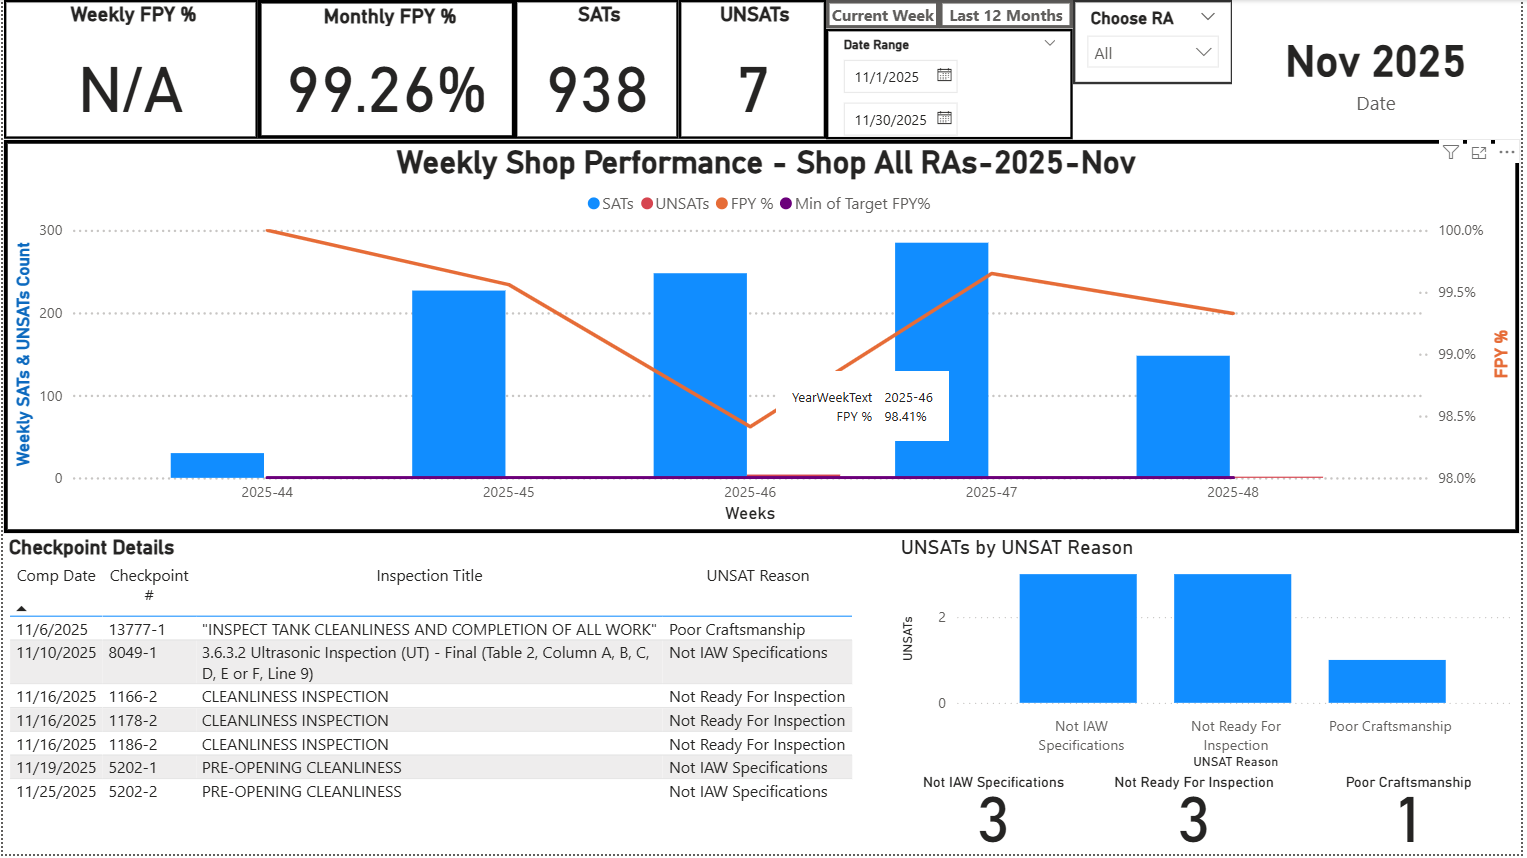

Layout of this report page (visuals, bound fields, positions):
{"tool":"powerbi","page":{"name":"FPY %","canvas":[1280,720],"ordinal":0},"visuals":[{"type":"lineClusteredColumnComboChart","fields":{"Y":["FPY_Graph.SATs","FPY_Graph.UNSATs"],"Y2":["FPY_Graph.FPY %","Min(FPY_Graph.Target FPY%)"],"Category":["Calendar.YearWeekText"]},"box":[0,106.2,1279,344],"z":0},{"type":"card","title":"Weekly FPY %","fields":{"Values":["FPY_Graph.Weekly FPY % (Card)"]},"box":[0.9,0,213.9,106.1],"z":1000},{"type":"card","title":"Monthly FPY %","fields":{"Values":["FPY_Graph.Monthly / Period FPY% (Smart)"]},"box":[214.8,0,216.5,106.1],"z":2000},{"type":"card","title":"SATs","fields":{"Values":["FPY_Graph.SATs (0)"]},"box":[431.3,0,138.9,106.1],"z":3000},{"type":"card","title":"UNSATs","fields":{"Values":["FPY_Graph.UNSATs(0)"]},"box":[570.1,0,123.3,106.1],"z":4000},{"type":"slicer","fields":{"Values":["FPY_Graph.RA"]},"box":[902.2,0,134.6,106.1],"z":5000},{"type":"slicer","fields":{"Values":["Calendar.Date"]},"box":[693.5,24.2,208.7,81.9],"z":6000},{"type":"actionButton","box":[693.5,0,95.7,24.2],"z":7000},{"type":"actionButton","box":[789.2,0,113,24.2],"z":8000},{"type":"tableEx","title":"Checkpoint Details","fields":{"Values":["FPY_Graph.Completion Date","FPY_Graph.Checkpoint #","FPY_Graph.Inspection Title","FPY_Graph.UNSAT Reason"]},"box":[0,451,752,268],"z":9000},{"type":"clusteredColumnChart","fields":{"Category":["FPY_Graph.UNSAT Reason (Clean)"],"Y":["FPY_Graph.UNSATs"]},"box":[752,451.1,526.9,201.5],"z":10000},{"type":"card","title":"Not IAW Specifications","fields":{"Values":["FPY_Graph.UNSATs - Not IAW Specifications"]},"box":[752,652.6,166.1,67.4],"z":11000},{"type":"card","title":"Not Ready For Inspection","fields":{"Values":["FPY_Graph.UNSATs - Not Ready For Inspection"]},"box":[918.1,652.6,172,67.4],"z":12000},{"type":"card","title":"Poor Craftsmanship","fields":{"Values":["FPY_Graph.UNSATs - Poor Craftsmanship"]},"box":[1090.1,652.6,189.7,67.4],"z":13000},{"type":"card","fields":{"Values":["FPY_Graph.Date Context (Simple)"]},"box":[1036.2,0,242.8,106.2],"z":14000}]}

Visuals, with their boxes in screenshot pixels (x1, y1, x2, y2), scaled from the page's 1280x720 canvas onto the 1527x858 screenshot:
lineClusteredColumnComboChart - FPY_Graph.SATs x FPY_Graph.UNSATs: Rect(0, 127, 1526, 536)
"Weekly FPY %" card: Rect(1, 0, 256, 126)
"Monthly FPY %" card: Rect(256, 0, 515, 126)
"SATs" card: Rect(515, 0, 680, 126)
"UNSATs" card: Rect(680, 0, 827, 126)
slicer - FPY_Graph.RA: Rect(1076, 0, 1237, 126)
slicer - Calendar.Date: Rect(827, 29, 1076, 126)
actionButton: Rect(827, 0, 941, 29)
actionButton: Rect(941, 0, 1076, 29)
"Checkpoint Details" tableEx: Rect(0, 537, 897, 857)
clusteredColumnChart - FPY_Graph.UNSAT Reason (Clean) x FPY_Graph.UNSATs: Rect(897, 538, 1526, 778)
"Not IAW Specifications" card: Rect(897, 778, 1095, 857)
"Not Ready For Inspection" card: Rect(1095, 778, 1300, 857)
"Poor Craftsmanship" card: Rect(1300, 778, 1526, 857)
card - FPY_Graph.Date Context (Simple): Rect(1236, 0, 1526, 127)
